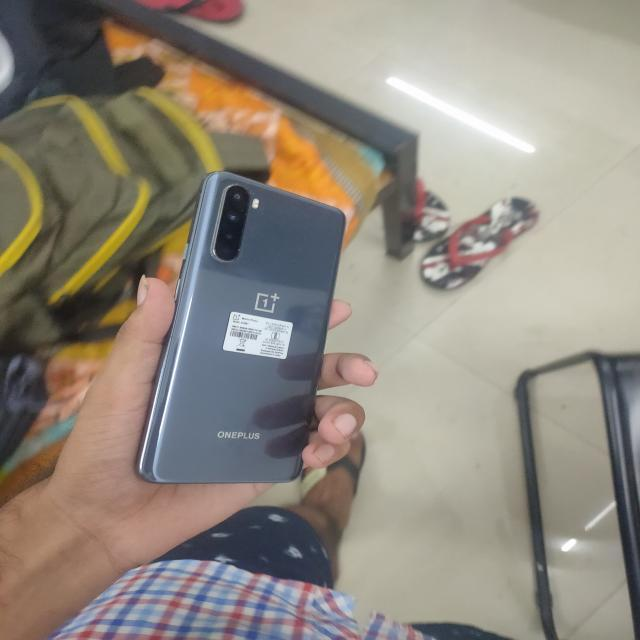Phone: (131, 166, 350, 489)
